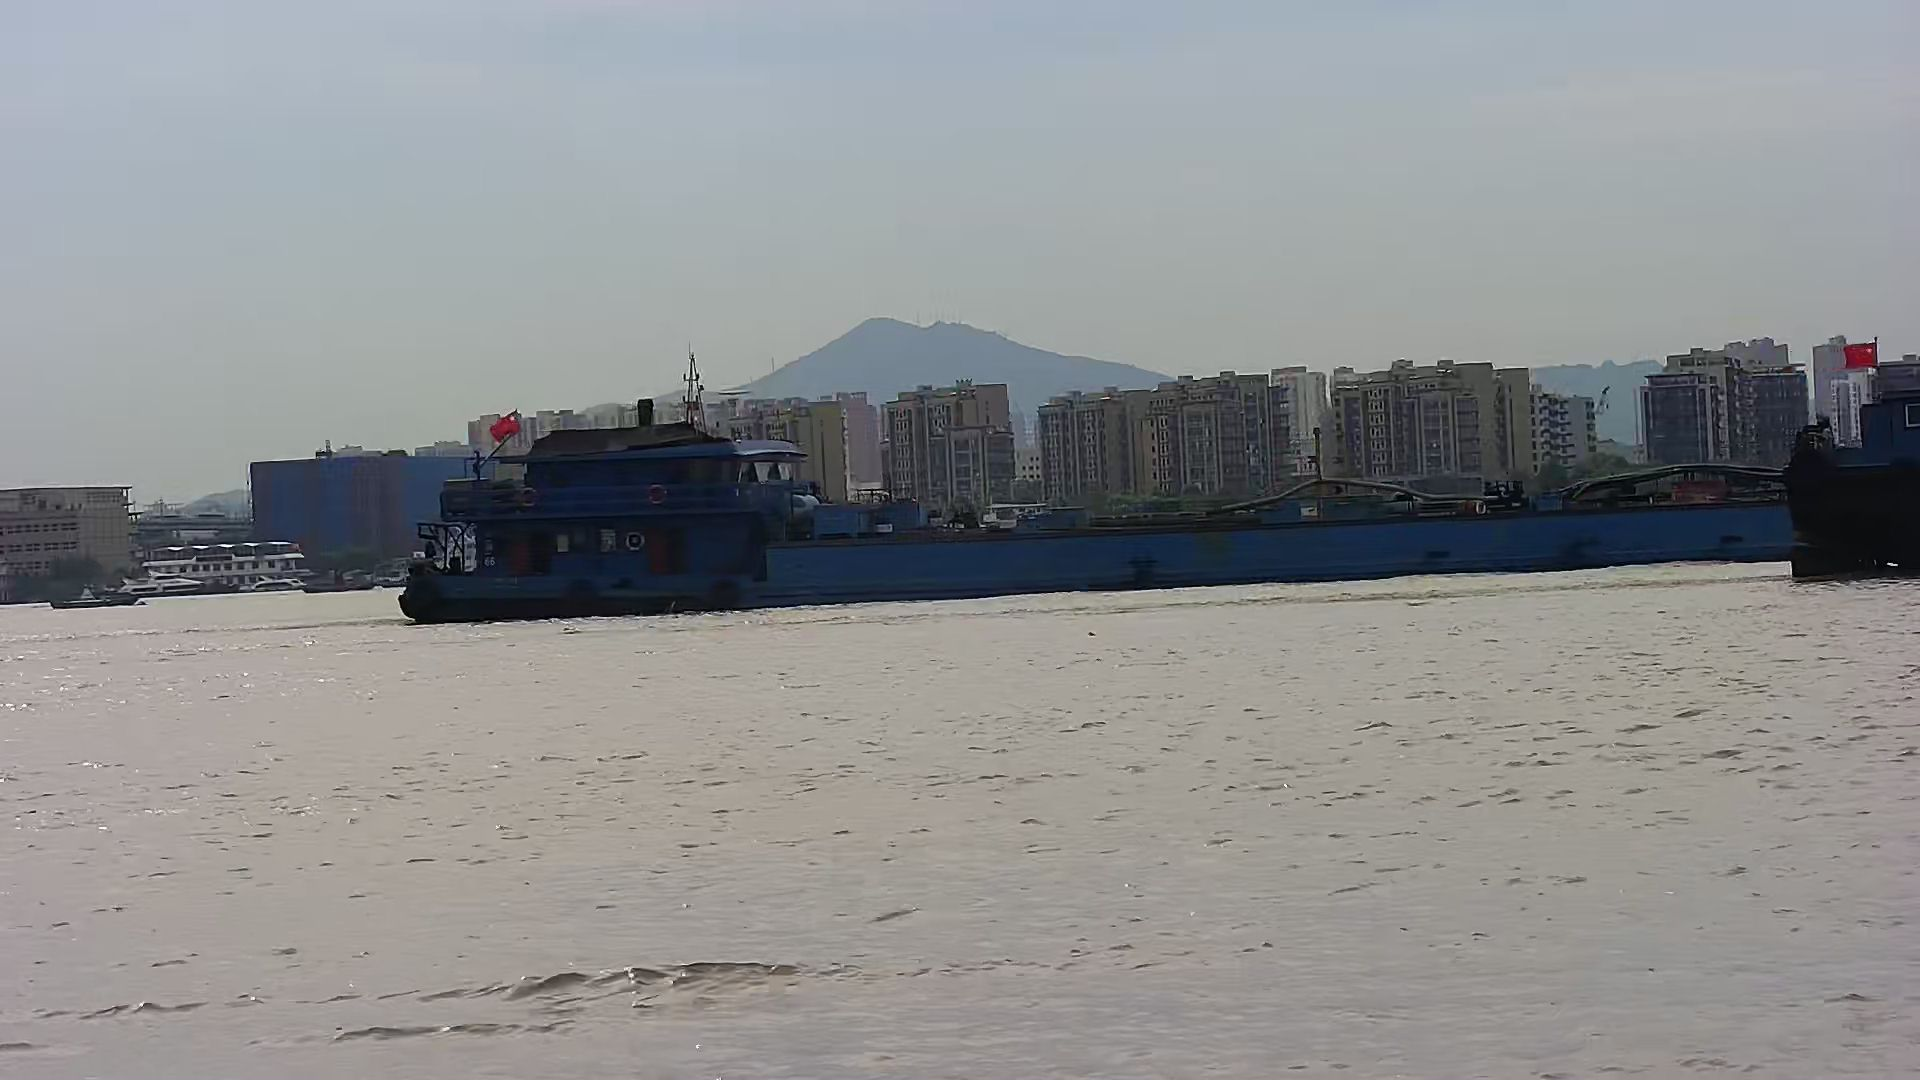ship: (406, 417, 1792, 621), (1784, 338, 1920, 582)
